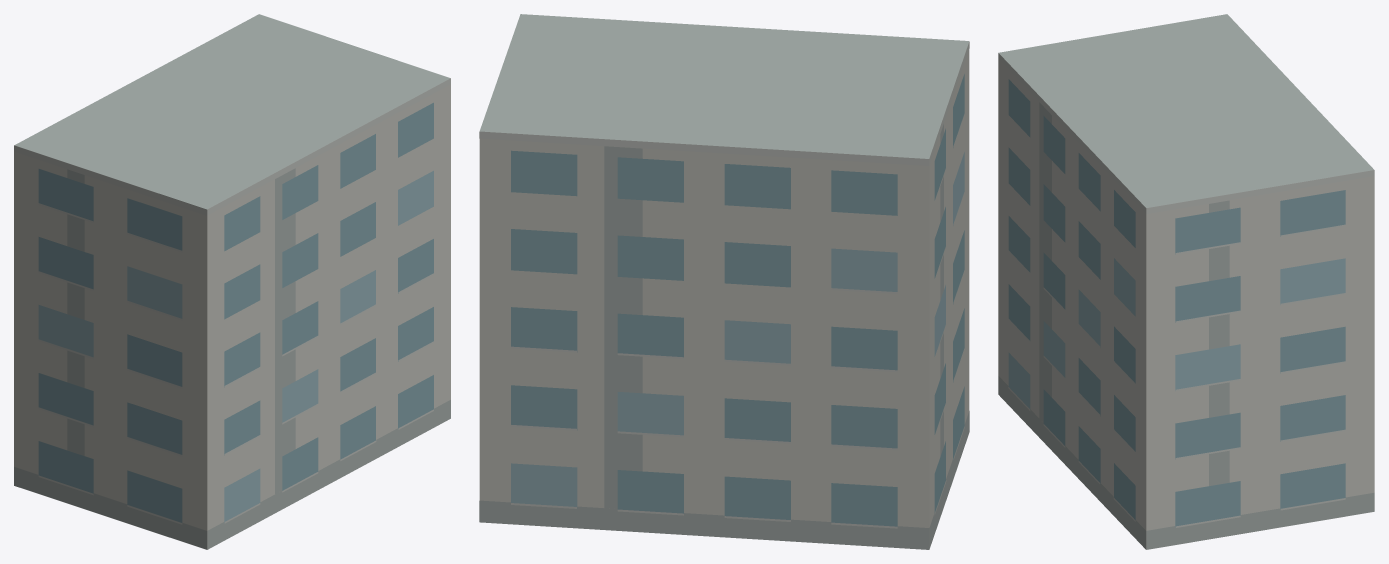
File: survey-upis-32881897.glb
3 renders of one model, left to right at view 1: azimuth 30°, elevation 25°; view 2: azimuth 150°, elevation 25°; view 3: azimuth 270°, elevation 25°, orthographic. The views are drawn at different scales.
Parts seen in each view (by area): view 1: survey-upis-32881897.tmp; view 2: survey-upis-32881897.tmp; view 3: survey-upis-32881897.tmp.
Boxes of the visible parts, <box> form: survey-upis-32881897.tmp: <box>14,14,450,549</box>; survey-upis-32881897.tmp: <box>479,14,969,549</box>; survey-upis-32881897.tmp: <box>998,14,1374,549</box>.
Bounding box in the file's own units: 16.34 × 13.4 × 13.38.
